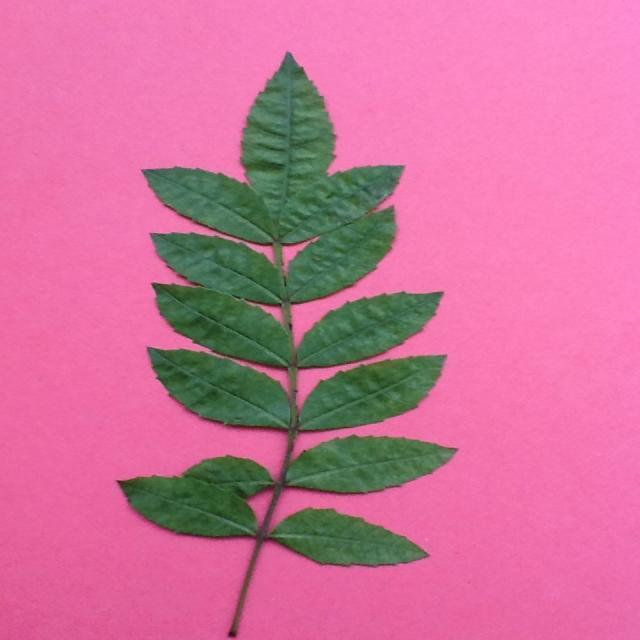foliage: (235, 48, 338, 206), (146, 342, 294, 432), (290, 288, 450, 370), (292, 352, 449, 435), (146, 280, 288, 370), (277, 206, 403, 306), (138, 166, 286, 247), (276, 433, 460, 492), (146, 228, 284, 306), (264, 506, 436, 568), (282, 161, 412, 243), (114, 472, 262, 542), (180, 453, 276, 499)
